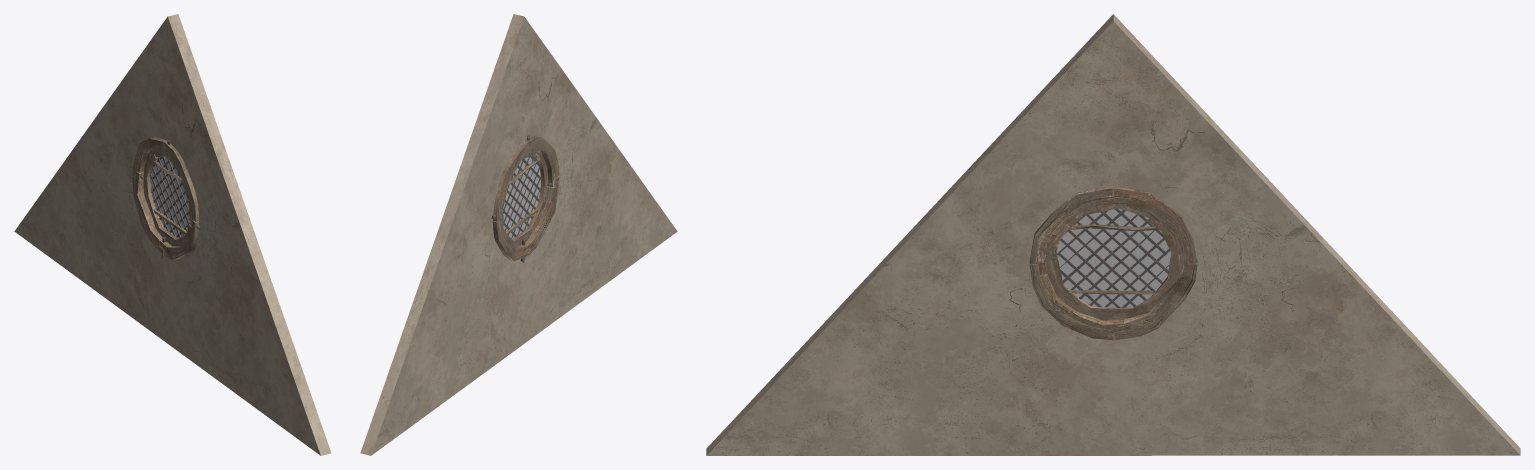
The model's file is SM_Wall_Top_02.fbx.
3 views of the same model, side by side, from view 1: azimuth 30°, elevation 25°; view 2: azimuth 150°, elevation 25°; view 3: azimuth 270°, elevation 25° (orthographic). The views are drawn at different scales.
Parts seen in each view (by area): view 1: SM_Wall_Top_02_LOD0; view 2: SM_Wall_Top_02_LOD0; view 3: SM_Wall_Top_02_LOD0.
Part boxes in pixels (bbox=[...]): SM_Wall_Top_02_LOD0: bbox=[14, 14, 331, 455]; SM_Wall_Top_02_LOD0: bbox=[360, 14, 677, 455]; SM_Wall_Top_02_LOD0: bbox=[706, 14, 1520, 455].
Bounding box in the file's own units: 22.07 × 599 × 353.
